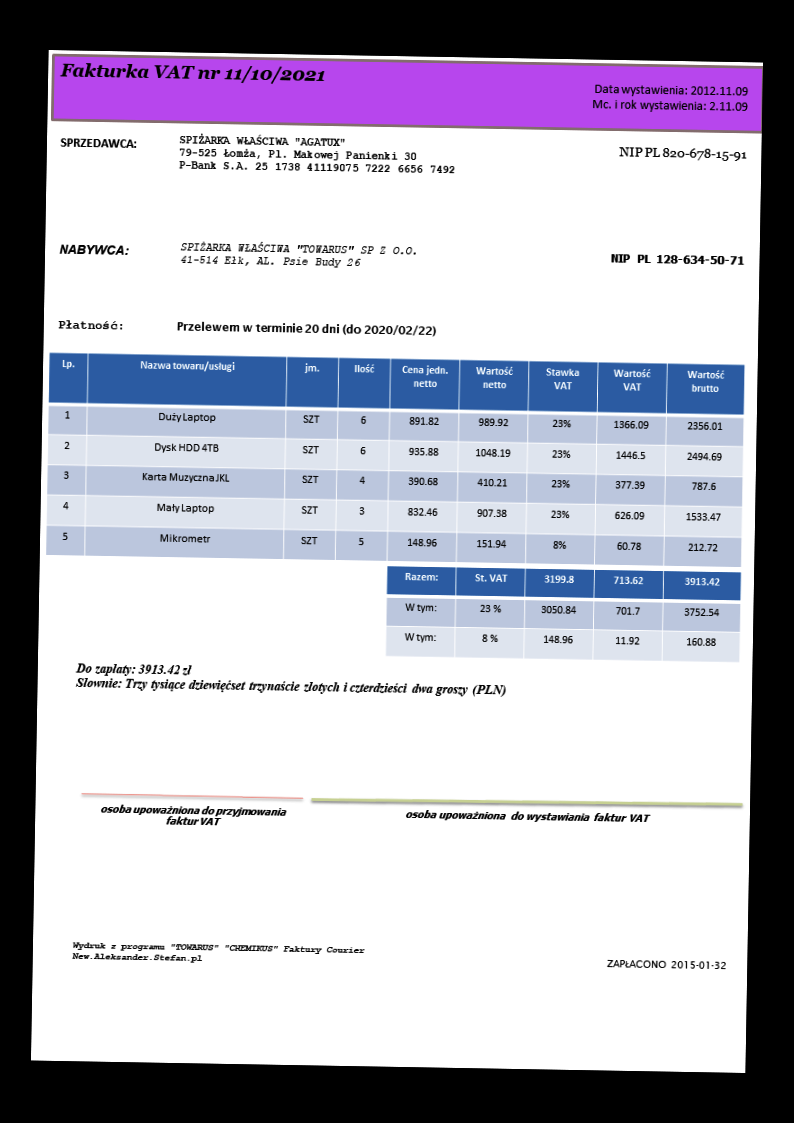Table: (43, 350, 745, 568), (385, 564, 742, 663)
TextBox: (72, 659, 509, 700), (174, 131, 457, 177), (69, 939, 367, 968), (177, 239, 420, 271), (57, 59, 326, 85), (588, 80, 751, 114), (98, 801, 287, 829), (403, 806, 654, 827), (174, 320, 438, 339), (615, 144, 748, 163), (603, 955, 728, 975), (608, 250, 745, 268), (58, 134, 138, 151), (57, 240, 130, 258), (56, 316, 126, 333)
